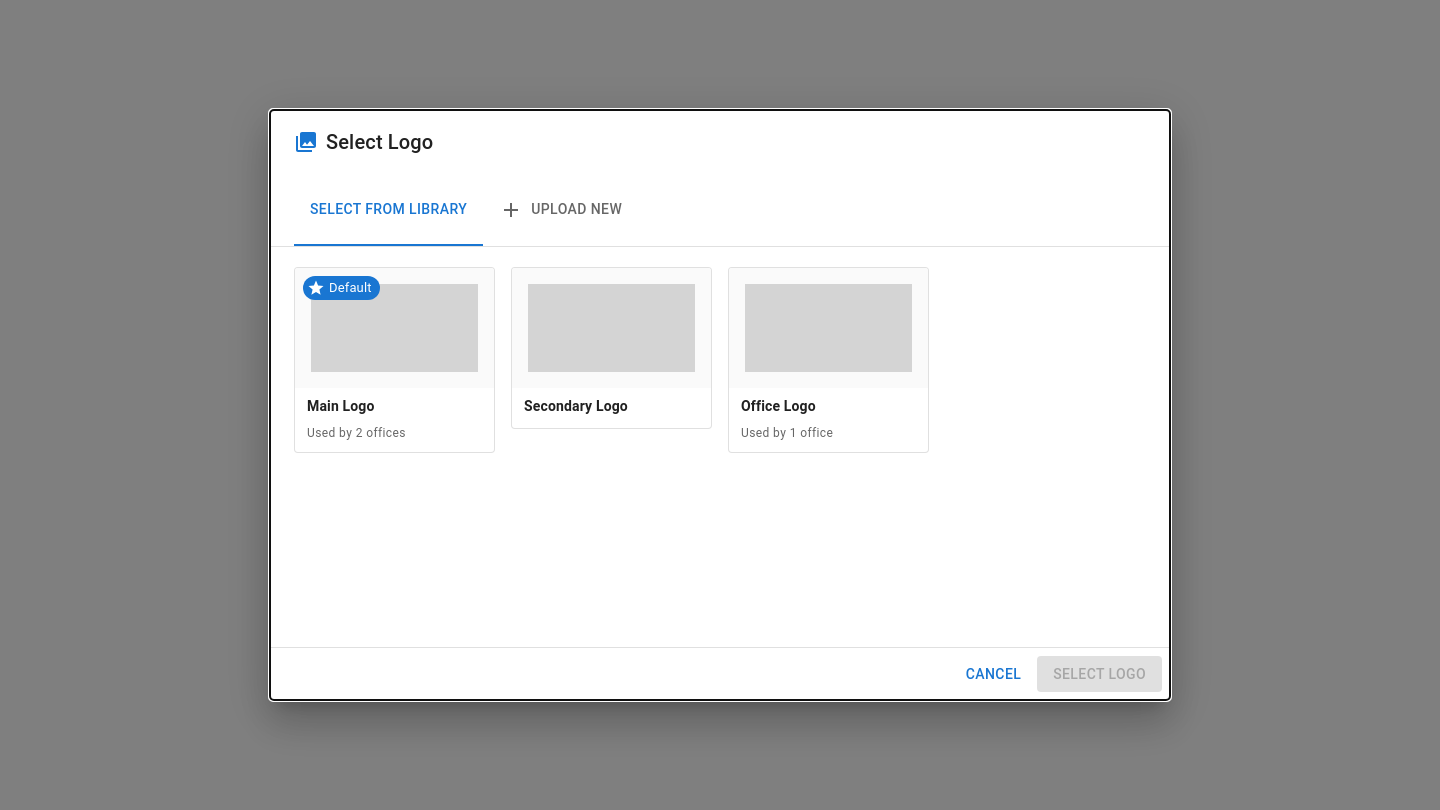
Test: LogoPickerDialog › upload tab › should switch to upload tab when clicked
Click the tab "Upload New" at (561, 210), box [483,174,638,246]
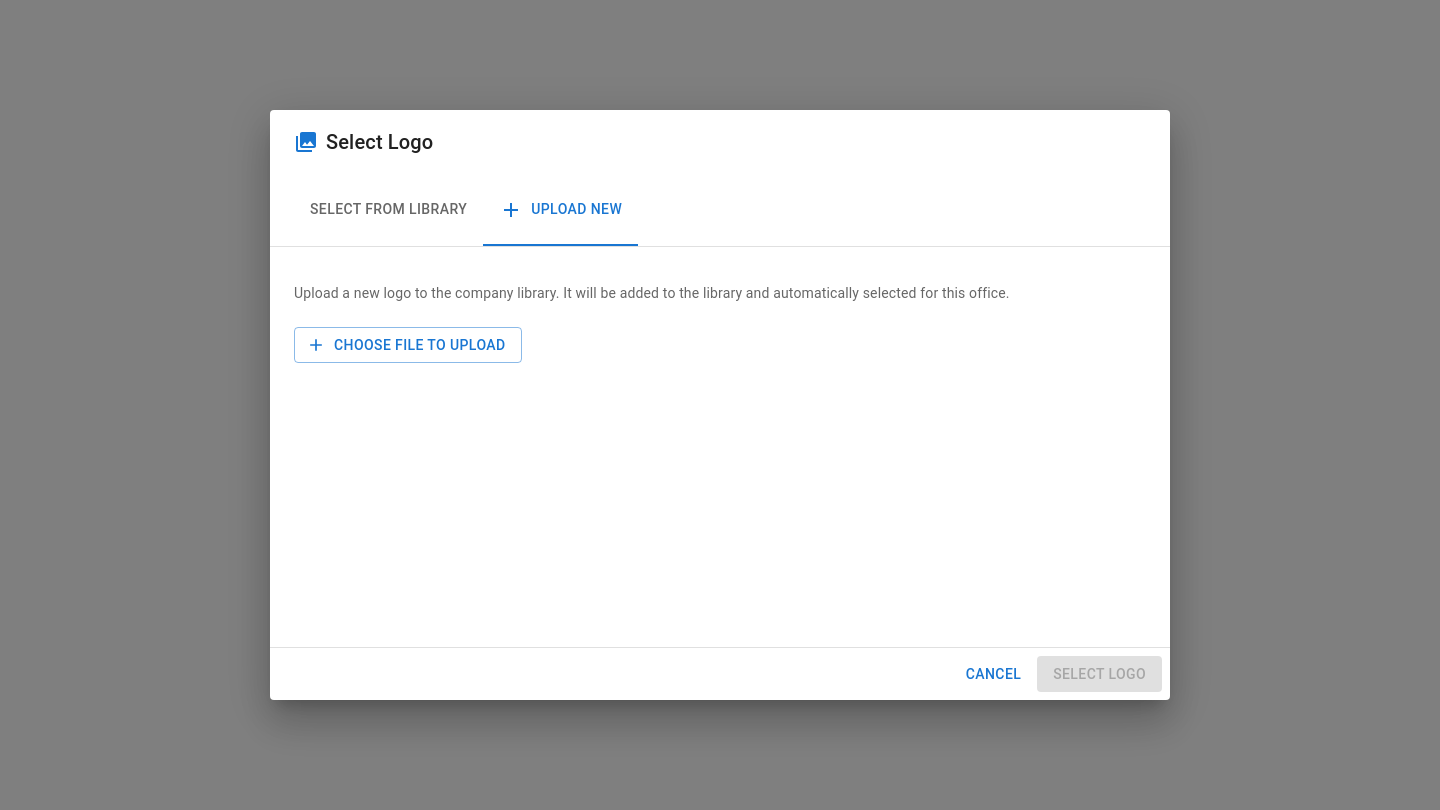
Now the text "Upload a new logo to the company library" is shown, box [294,285,1010,301]
